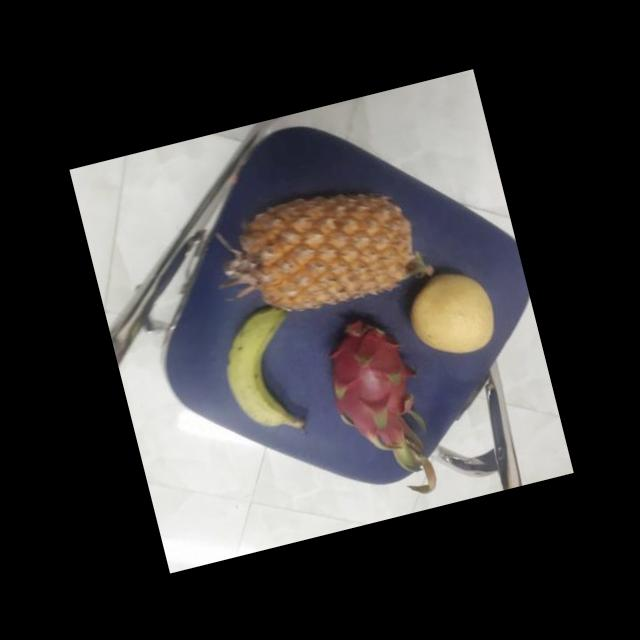banana: (206, 304, 314, 443)
pear: (396, 264, 500, 362)
pineapple: (208, 168, 425, 326)
pitaya: (314, 313, 428, 457)
